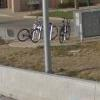Bicycle: (13, 14, 72, 50)
